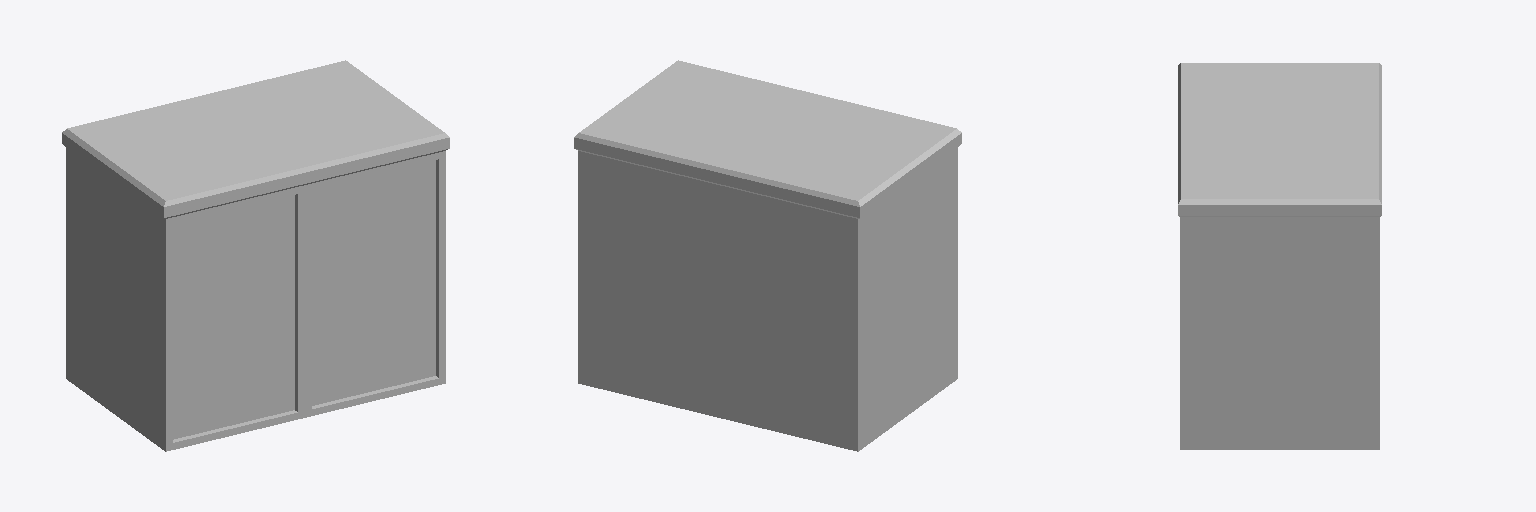
The model's file is stromkasten.obj.
3 views of the same model, side by side, from view 1: azimuth 30°, elevation 25°; view 2: azimuth 150°, elevation 25°; view 3: azimuth 270°, elevation 25° (orthographic).
Visible parts, largest first — view 1: Cube.004_Cube.007; view 2: Cube.004_Cube.007; view 3: Cube.004_Cube.007.
Boxes of the visible parts, box(x1,y1,x2,y2) form: Cube.004_Cube.007: box(62, 60, 449, 451); Cube.004_Cube.007: box(574, 60, 961, 451); Cube.004_Cube.007: box(1178, 63, 1381, 449).
Bounding box in the file's own units: 3.19 × 2.67 × 1.96.